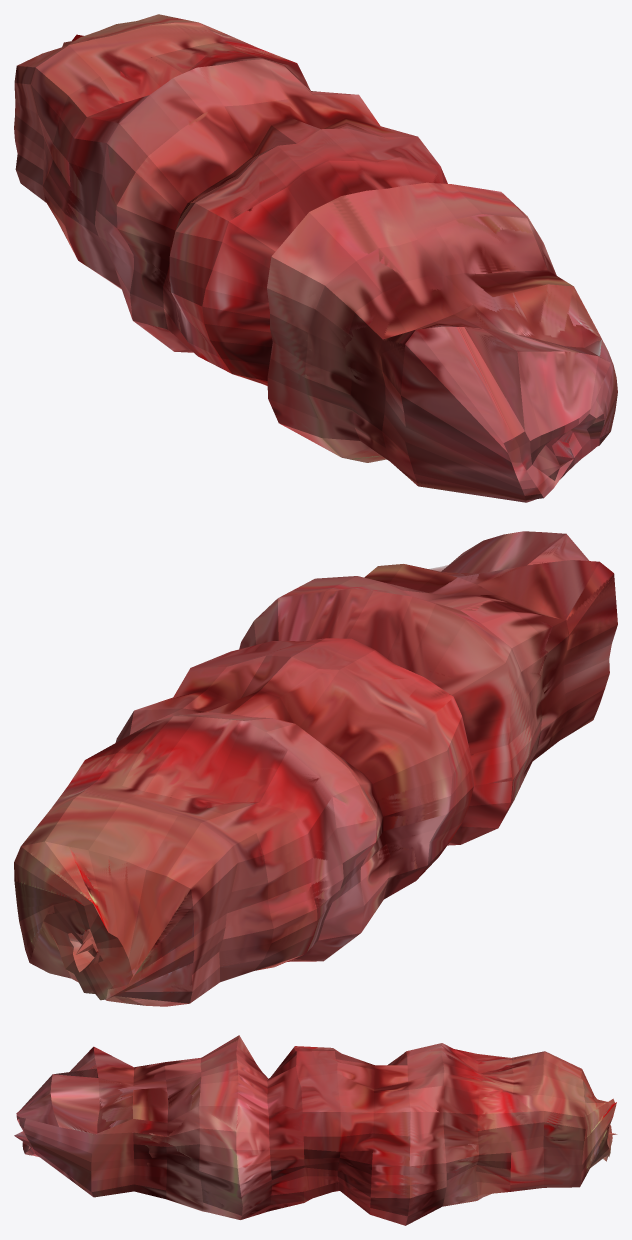
Rendered from large intestine.glb.
The picture shows the model from 3 angles, top to bottom: view 1: azimuth 30°, elevation 25°; view 2: azimuth 150°, elevation 25°; view 3: azimuth 270°, elevation 25°; orthographic projection. The views are drawn at different scales.
Parts seen in each view (by area): view 1: Cube; view 2: Cube; view 3: Cube.
Part boxes in pixels (left/top/right/bottom): Cube: left=14, top=14, right=617, bottom=502; Cube: left=14, top=531, right=617, bottom=1006; Cube: left=14, top=1035, right=617, bottom=1225.
Bounding box in the file's own units: 29.28 × 24.77 × 85.4.
Materials: 1 (1 with a texture image).
